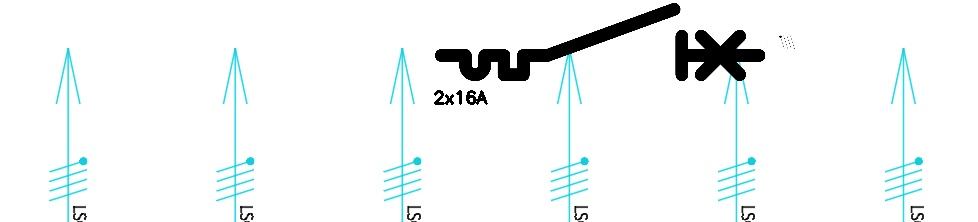interruptor_termomagnetico: (433, 1, 767, 83)
